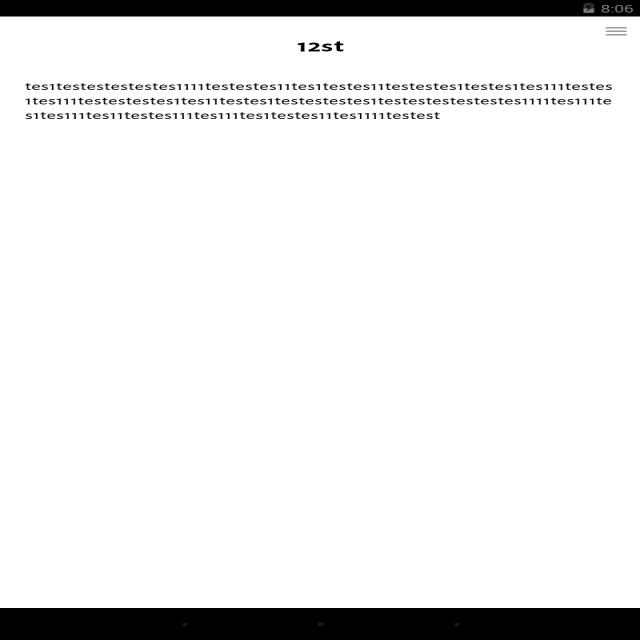ImageButton: (592, 21, 630, 41)
TextView: (16, 77, 614, 126), (284, 33, 358, 56)
